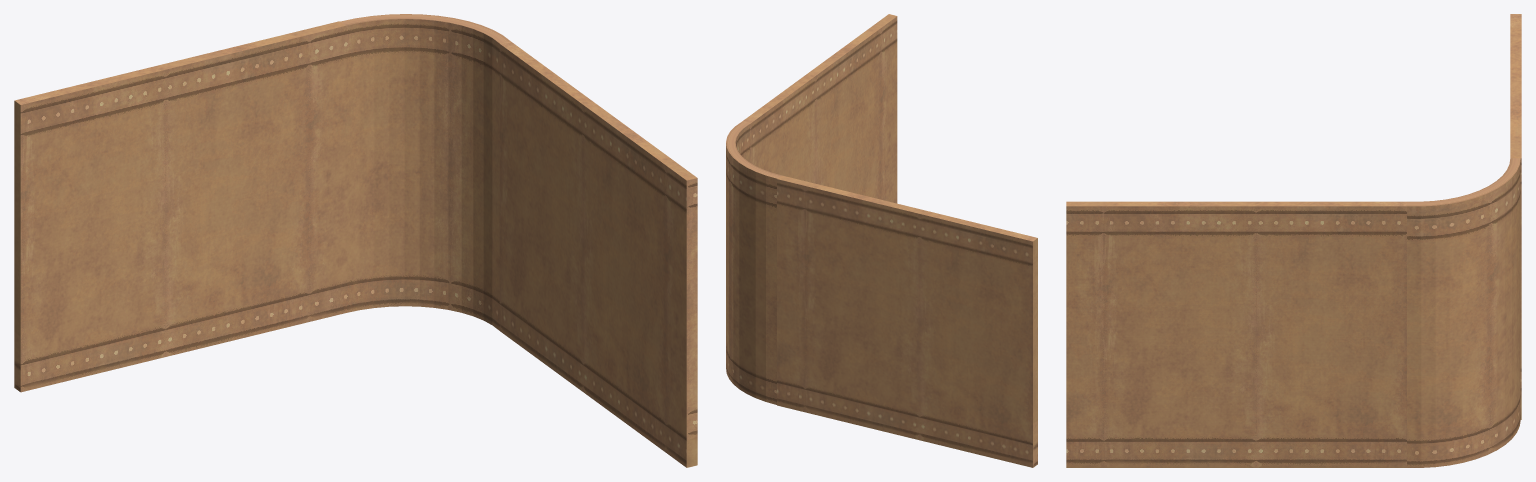
Rendered from Wall_1.001.fbx.
The picture shows the model from 3 angles, left to right: view 1: azimuth 30°, elevation 25°; view 2: azimuth 150°, elevation 25°; view 3: azimuth 270°, elevation 25°; orthographic projection. The views are drawn at different scales.
Visible parts, largest first — view 1: Wall_1.001; view 2: Wall_1.001; view 3: Wall_1.001.
Part boxes in pixels (x1,y1,x2,y2): Wall_1.001: [14, 14, 697, 467]; Wall_1.001: [726, 14, 1037, 467]; Wall_1.001: [1066, 14, 1521, 467].
Bounding box in the file's own units: 4 × 2.53 × 4.
